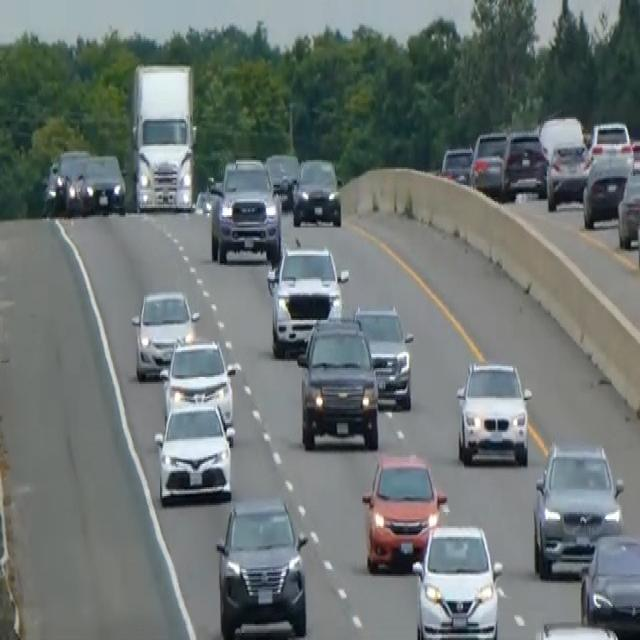car: (215, 494, 308, 638), (532, 439, 624, 580), (361, 450, 447, 572), (412, 523, 502, 638), (266, 242, 348, 357), (153, 398, 233, 505), (455, 357, 532, 466), (208, 155, 282, 265), (160, 334, 236, 436), (130, 286, 199, 381), (353, 304, 414, 411), (579, 532, 639, 636), (582, 148, 632, 228), (291, 154, 342, 228), (501, 128, 548, 199), (545, 140, 591, 210), (79, 151, 126, 215), (469, 128, 507, 196), (52, 148, 88, 212), (539, 114, 584, 165), (264, 151, 299, 208), (616, 163, 639, 249), (588, 119, 633, 162), (529, 619, 630, 638), (40, 155, 64, 213), (440, 144, 473, 185), (630, 135, 639, 173), (635, 198, 639, 278)
jeep: (295, 313, 380, 451)
lorry: (127, 60, 197, 214)
